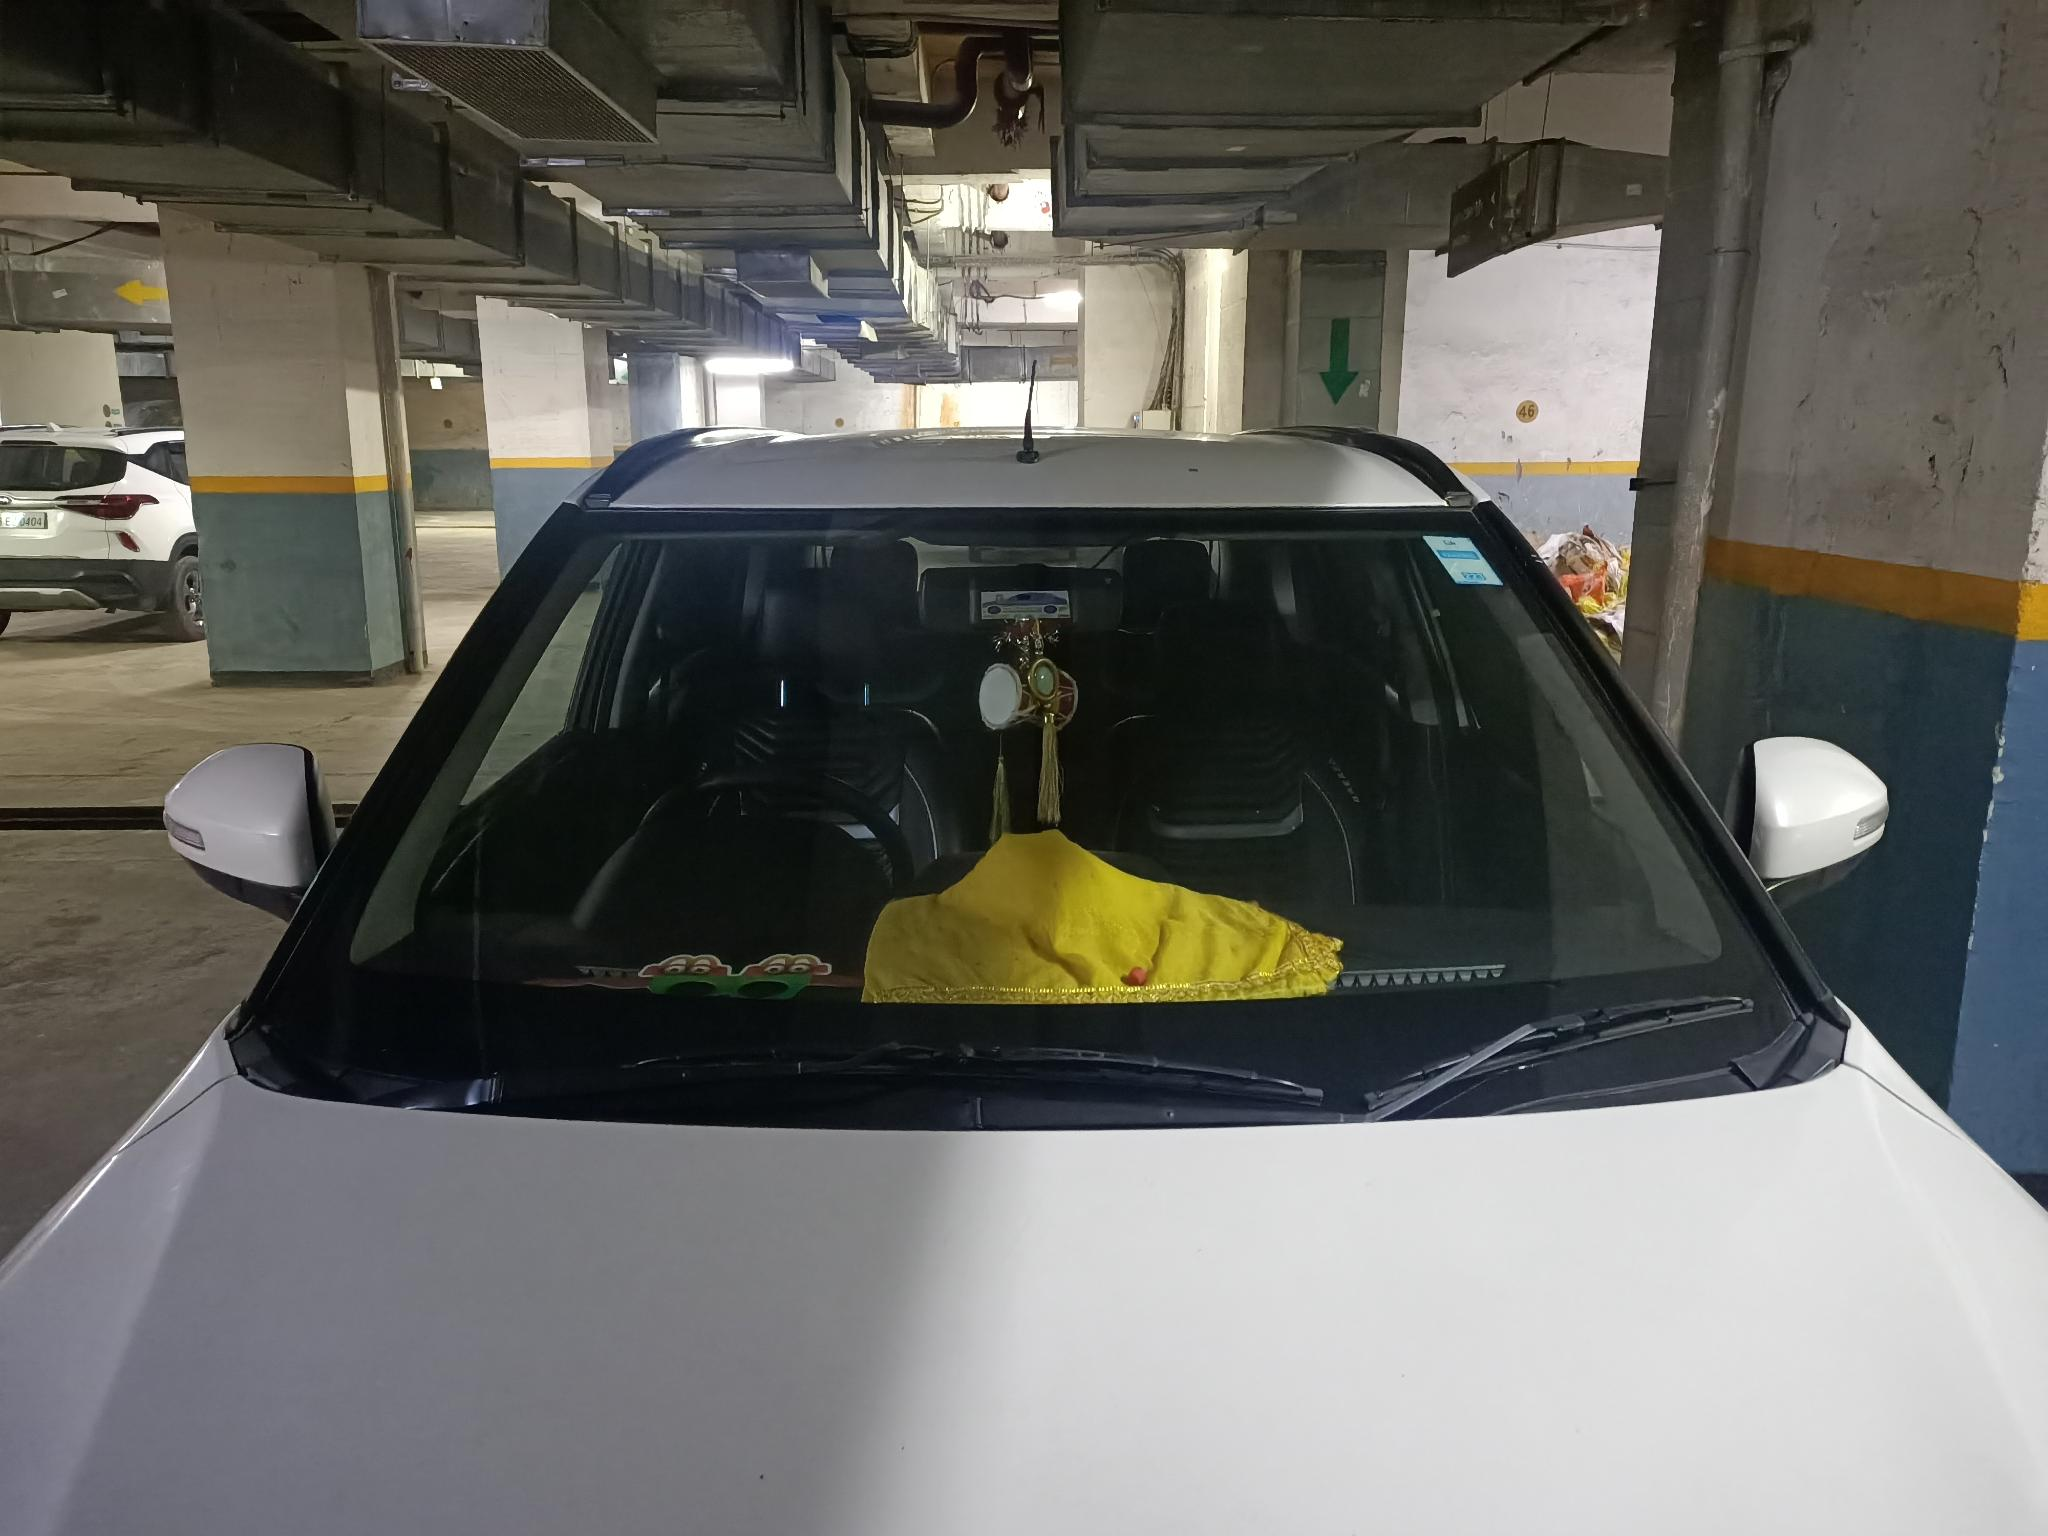FastTag: (978, 579, 1096, 635)
not a FastTag: (1420, 514, 1512, 614)
